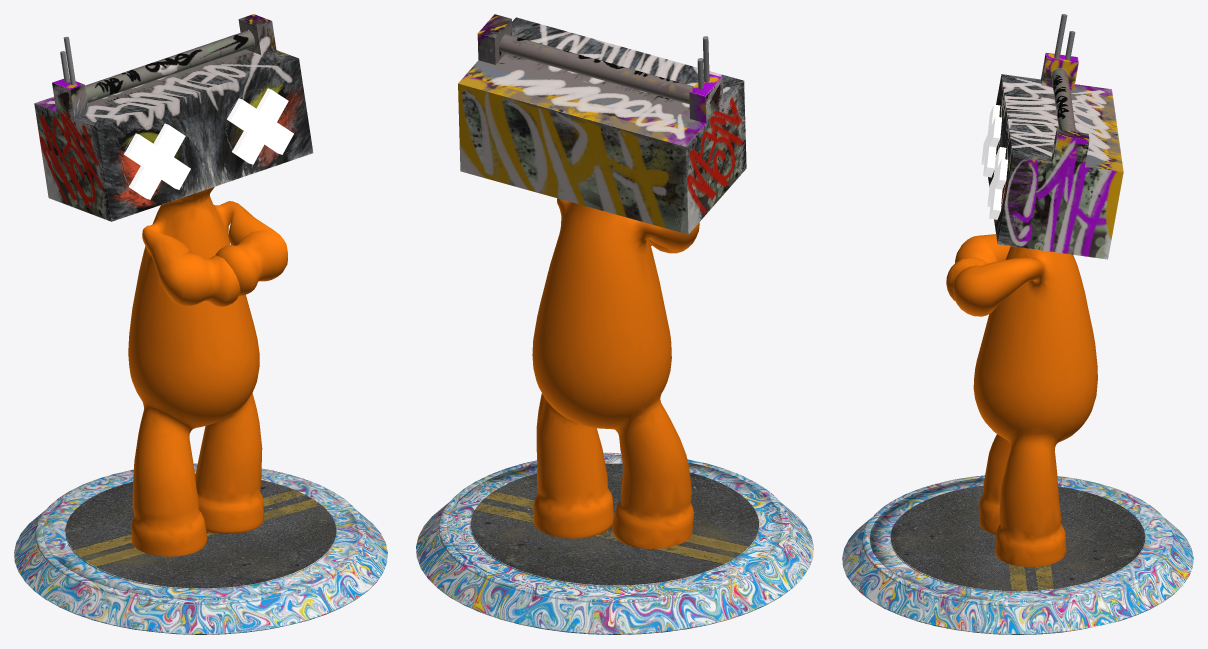
3 renders of one model, left to right at view 1: azimuth 30°, elevation 25°; view 2: azimuth 150°, elevation 25°; view 3: azimuth 270°, elevation 25°, orthographic. The views are drawn at different scales.
Parts seen in each view (by area): view 1: BBody; view 2: BBody; view 3: BBody.
Part boxes in pixels (x1,y1,x2,y2): BBody: (14, 14, 387, 634); BBody: (416, 14, 813, 634); BBody: (842, 14, 1193, 634).
Size of the model in its own units: 1.45 by 2.25 by 1.45.
6 materials, 3 textured.
